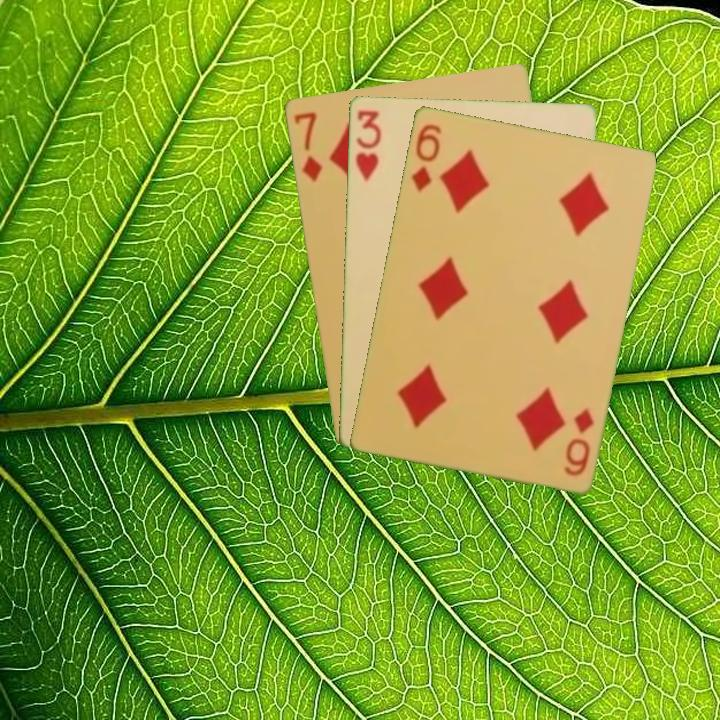3h: (351, 106, 384, 184)
6d: (407, 120, 444, 194), (560, 403, 596, 479)
7d: (290, 108, 325, 185)
